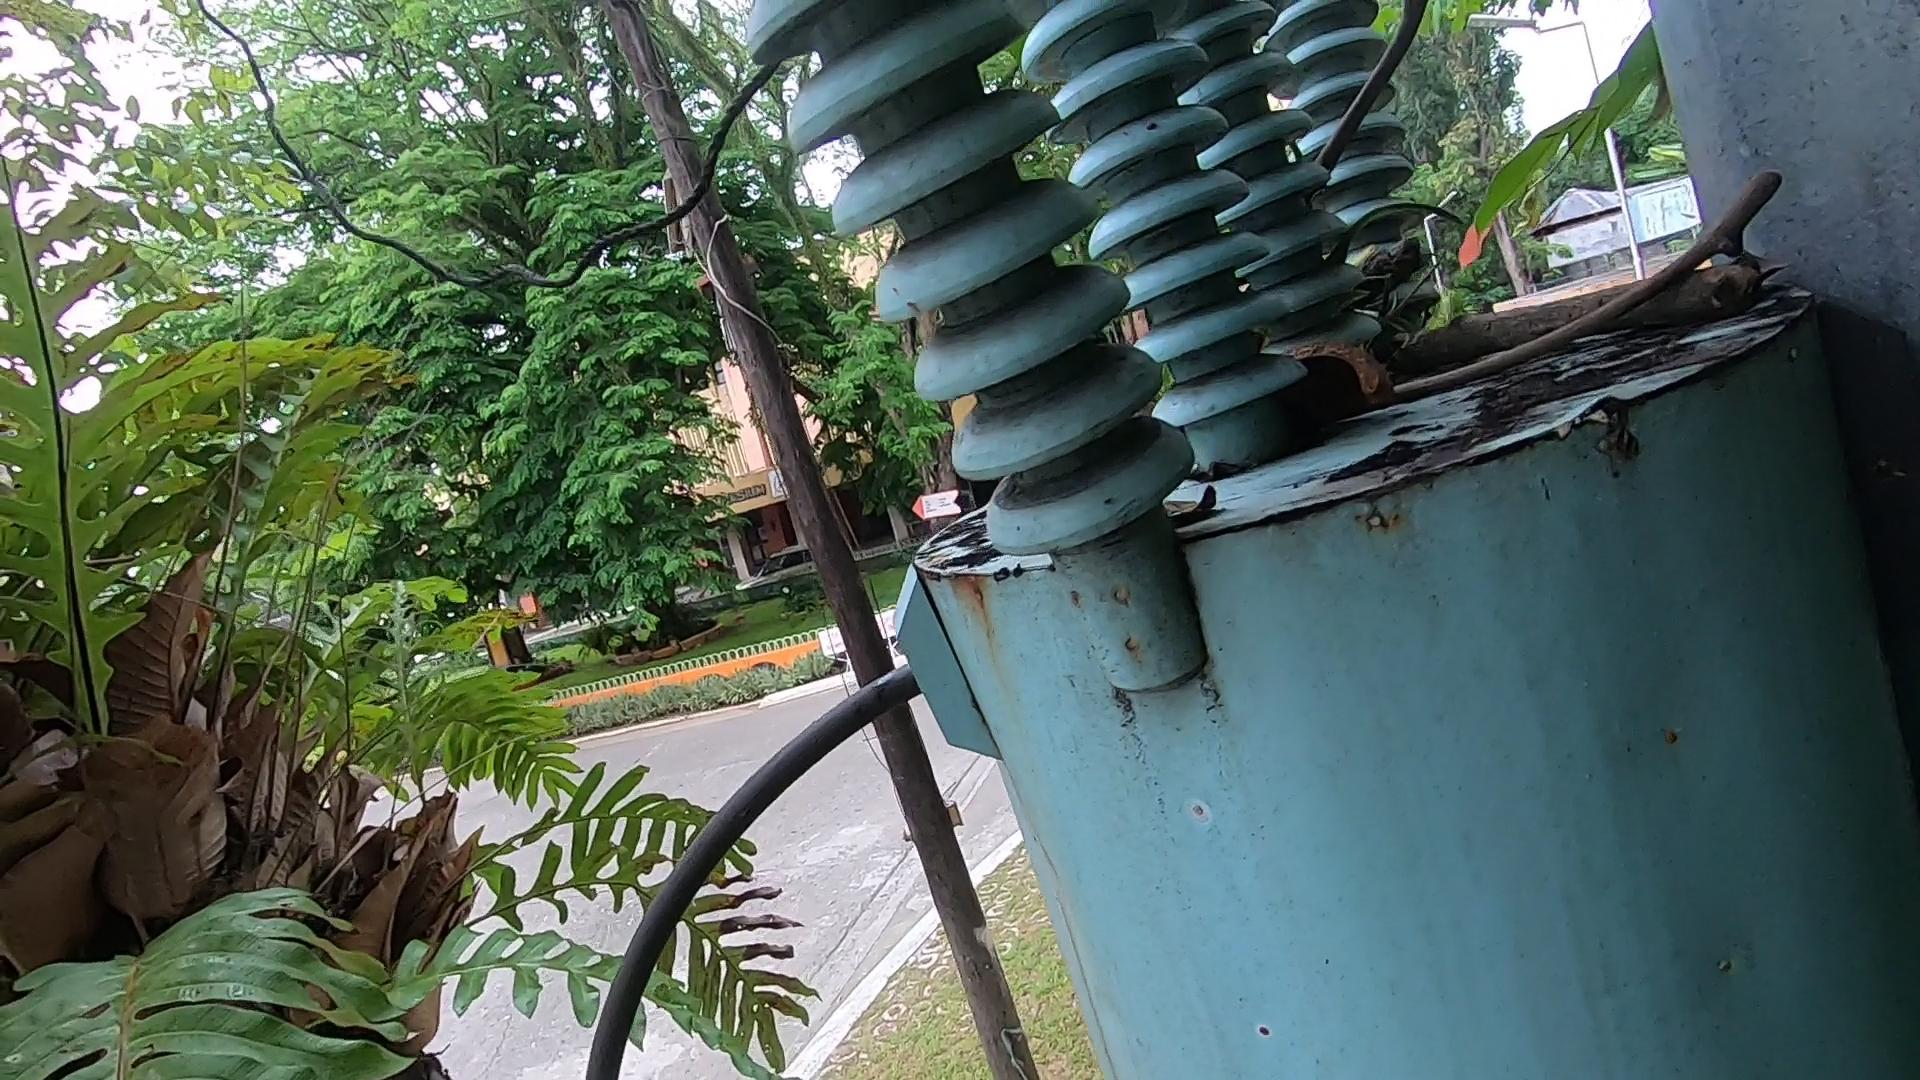branch with leaves: (1331, 243, 1903, 345), (1126, 487, 1251, 567)
mahogany fruit: (1305, 282, 1396, 411)
tree branch: (1352, 167, 1789, 433)
